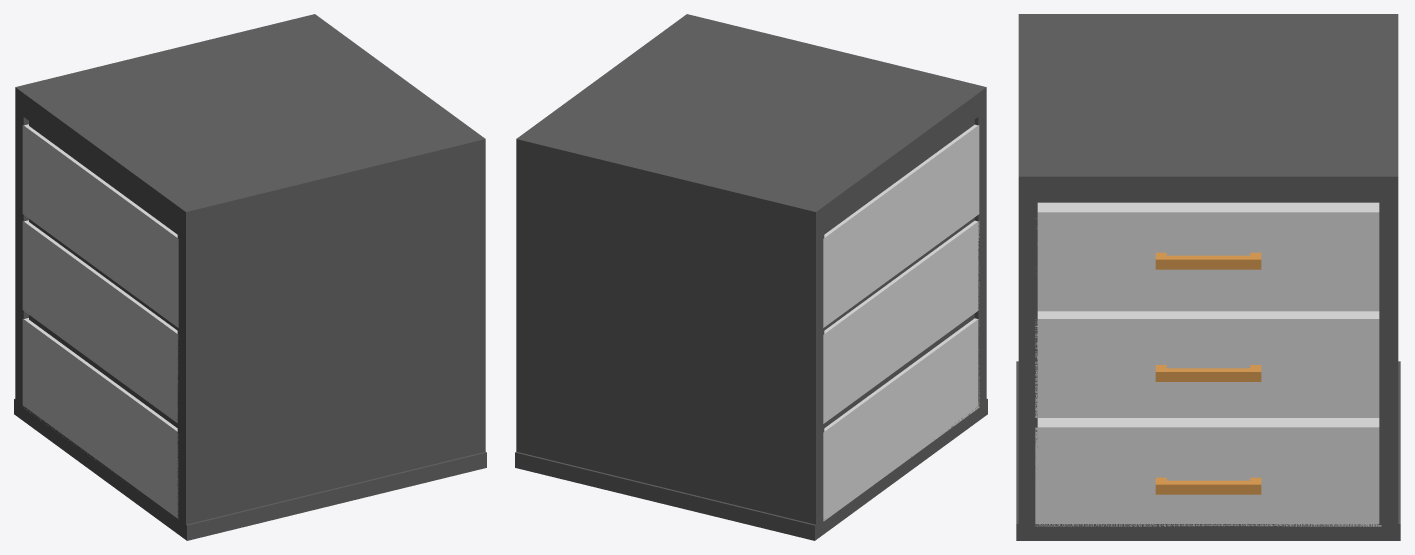
Rendered from yahschtopisat.fbx.
The picture shows the model from 3 angles, left to right: view 1: azimuth 30°, elevation 25°; view 2: azimuth 150°, elevation 25°; view 3: azimuth 270°, elevation 25°; orthographic projection. The views are drawn at different scales.
Parts seen in each view (by area): view 1: Cube.002; view 2: Cube.002; view 3: Cube.002.
Part boxes in pixels (bbox=[...]): Cube.002: bbox=[14, 14, 486, 540]; Cube.002: bbox=[515, 14, 987, 540]; Cube.002: bbox=[1016, 14, 1400, 540].
Bounding box in the file's own units: 209 × 209 × 200.
